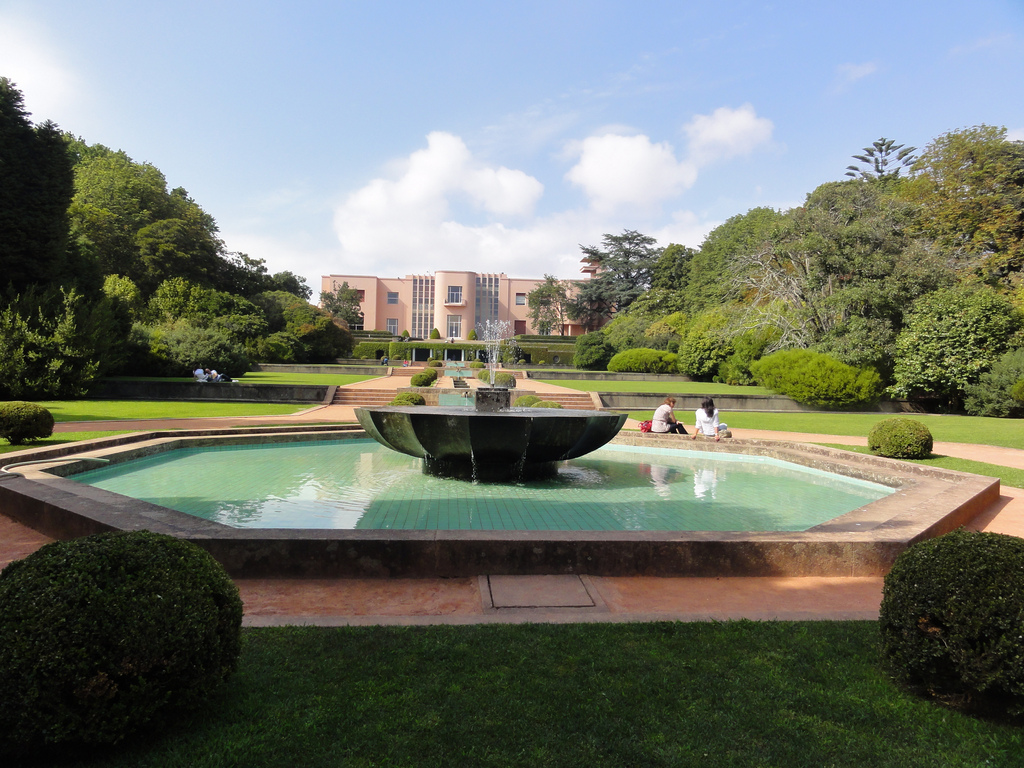serralves: (317, 247, 641, 341)
